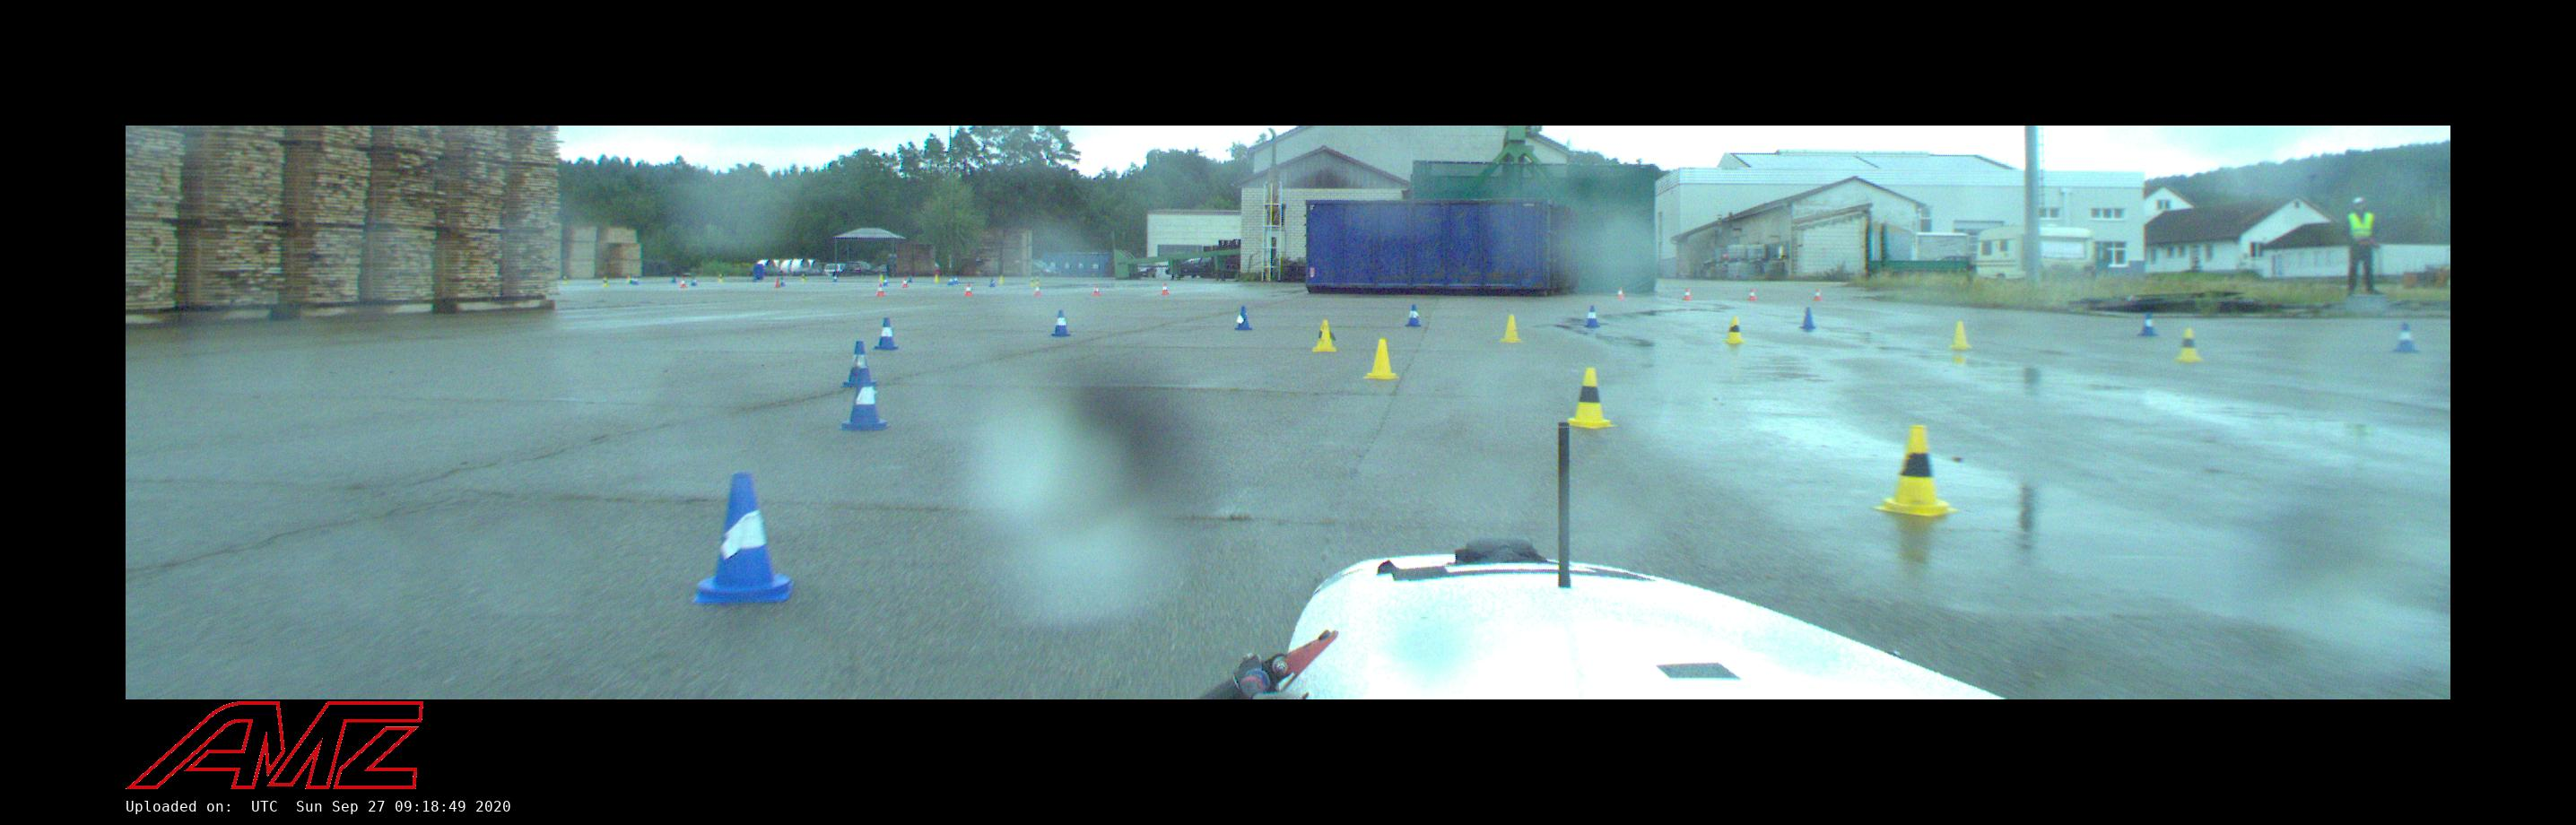blue_cone: (692, 473, 797, 603), (840, 370, 892, 431), (843, 342, 877, 386), (872, 317, 899, 350), (2394, 322, 2415, 352), (1051, 311, 1071, 337), (1234, 307, 1252, 330), (1799, 307, 1817, 330), (1403, 306, 1421, 327), (2139, 312, 2155, 335), (1585, 306, 1600, 327), (989, 278, 996, 288), (692, 278, 698, 286), (632, 276, 639, 284), (779, 278, 785, 286), (953, 274, 958, 284), (672, 276, 677, 283), (833, 274, 838, 281), (950, 276, 953, 284)
orange_cone: (876, 283, 885, 297), (1093, 284, 1101, 296), (1682, 289, 1690, 301), (966, 283, 973, 296), (902, 278, 910, 288), (1748, 289, 1755, 299), (1814, 291, 1820, 301), (1617, 288, 1623, 297), (680, 279, 687, 288), (1163, 284, 1168, 294), (1035, 286, 1040, 296)
unknown_cone: (774, 279, 782, 288)
yellow_cone: (1875, 426, 1947, 514), (1566, 368, 1617, 429), (1364, 339, 1398, 380), (2173, 330, 2201, 360), (1313, 320, 1336, 352), (1723, 317, 1745, 343), (1948, 322, 1970, 347), (1502, 316, 1521, 342), (720, 273, 724, 281), (999, 276, 1004, 284), (605, 278, 608, 286), (802, 274, 805, 279)
